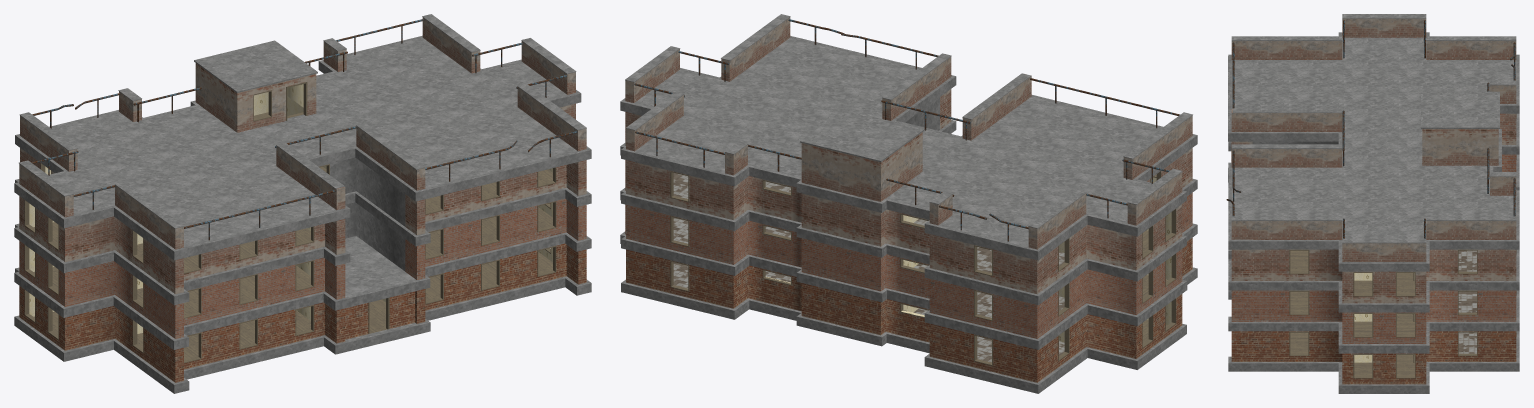
File: apartment.glb
3 renders of one model, left to right at view 1: azimuth 30°, elevation 25°; view 2: azimuth 150°, elevation 25°; view 3: azimuth 270°, elevation 25°, orthographic. The views are drawn at different scales.
Visible parts, largest first — view 1: roof_Ceramic_0, concrete border_Ceramic_0, base floor structure_wall_01_0, Object037_wall_03_0, Object059_Solid Glass_0, second floor structure_wall_03_0, Object037_Ceramic_0, roof halway_wall_03_0, halway roof_Ceramic_0, roof grill_Metal_0, pillar_Solid Glass_0, pillar_wall_03_0 (+11 smaller); view 2: roof_Ceramic_0, concrete border_Ceramic_0, second floor structure_wall_03_0, Object059_Solid Glass_0, base floor structure_wall_01_0, Object037_wall_03_0, roof halway_wall_03_0, Object037_Ceramic_0, halway roof_Ceramic_0, roof grill_Metal_0, second floor win/door/stairs_windows and stairs_0, first floor win/door/stairs_windows and stairs_0 (+6 smaller); view 3: roof_Ceramic_0, concrete border_Ceramic_0, Object037_wall_03_0, second floor structure_wall_03_0, Object059_Solid Glass_0, base floor structure_wall_01_0, Object037_Ceramic_0, halway roof_Ceramic_0, roof halway_wall_03_0, roof grill_Metal_0, base floor_floor_0, first floor_floor_0 (+12 smaller).
Boxes of the visible parts, bbox=[...] form: roof_Ceramic_0: bbox=[50, 37, 577, 247]; concrete border_Ceramic_0: bbox=[14, 35, 591, 393]; base floor structure_wall_01_0: bbox=[19, 203, 566, 374]; Object037_wall_03_0: bbox=[19, 17, 586, 249]; Object059_Solid Glass_0: bbox=[19, 198, 566, 330]; second floor structure_wall_03_0: bbox=[19, 103, 575, 285]; Object037_Ceramic_0: bbox=[19, 14, 586, 228]; roof halway_wall_03_0: bbox=[195, 63, 316, 132]; halway roof_Ceramic_0: bbox=[194, 40, 317, 92]; roof grill_Metal_0: bbox=[31, 19, 577, 240]; pillar_Solid Glass_0: bbox=[164, 200, 586, 338]; pillar_wall_03_0: bbox=[164, 160, 586, 294]; roof_Ceramic_0: bbox=[634, 37, 1161, 247]; concrete border_Ceramic_0: bbox=[620, 36, 1197, 393]; second floor structure_wall_03_0: bbox=[625, 112, 1182, 294]; Object059_Solid Glass_0: bbox=[625, 160, 1182, 338]; base floor structure_wall_01_0: bbox=[625, 204, 1182, 382]; Object037_wall_03_0: bbox=[625, 17, 1192, 249]; roof halway_wall_03_0: bbox=[801, 132, 922, 201]; Object037_Ceramic_0: bbox=[625, 14, 1192, 228]; halway roof_Ceramic_0: bbox=[800, 109, 924, 162]; roof grill_Metal_0: bbox=[634, 19, 1180, 241]; second floor win/door/stairs_windows and stairs_0: bbox=[670, 171, 1176, 276]; first floor win/door/stairs_windows and stairs_0: bbox=[670, 216, 1176, 321]; roof_Ceramic_0: bbox=[1231, 37, 1516, 262]; concrete border_Ceramic_0: bbox=[1228, 32, 1519, 393]; Object037_wall_03_0: bbox=[1231, 18, 1516, 261]; second floor structure_wall_03_0: bbox=[1252, 113, 1516, 302]; Object059_Solid Glass_0: bbox=[1252, 154, 1516, 343]; base floor structure_wall_01_0: bbox=[1252, 331, 1516, 384]; Object037_Ceramic_0: bbox=[1231, 14, 1516, 243]; halway roof_Ceramic_0: bbox=[1421, 91, 1499, 128]; roof halway_wall_03_0: bbox=[1422, 129, 1498, 165]; roof grill_Metal_0: bbox=[1226, 20, 1515, 238]; base floor_floor_0: bbox=[1290, 332, 1414, 375]; first floor_floor_0: bbox=[1290, 291, 1414, 334].
Size of the model in its own units: 38.24 by 13 by 20.5.
10 materials, 10 textured.
